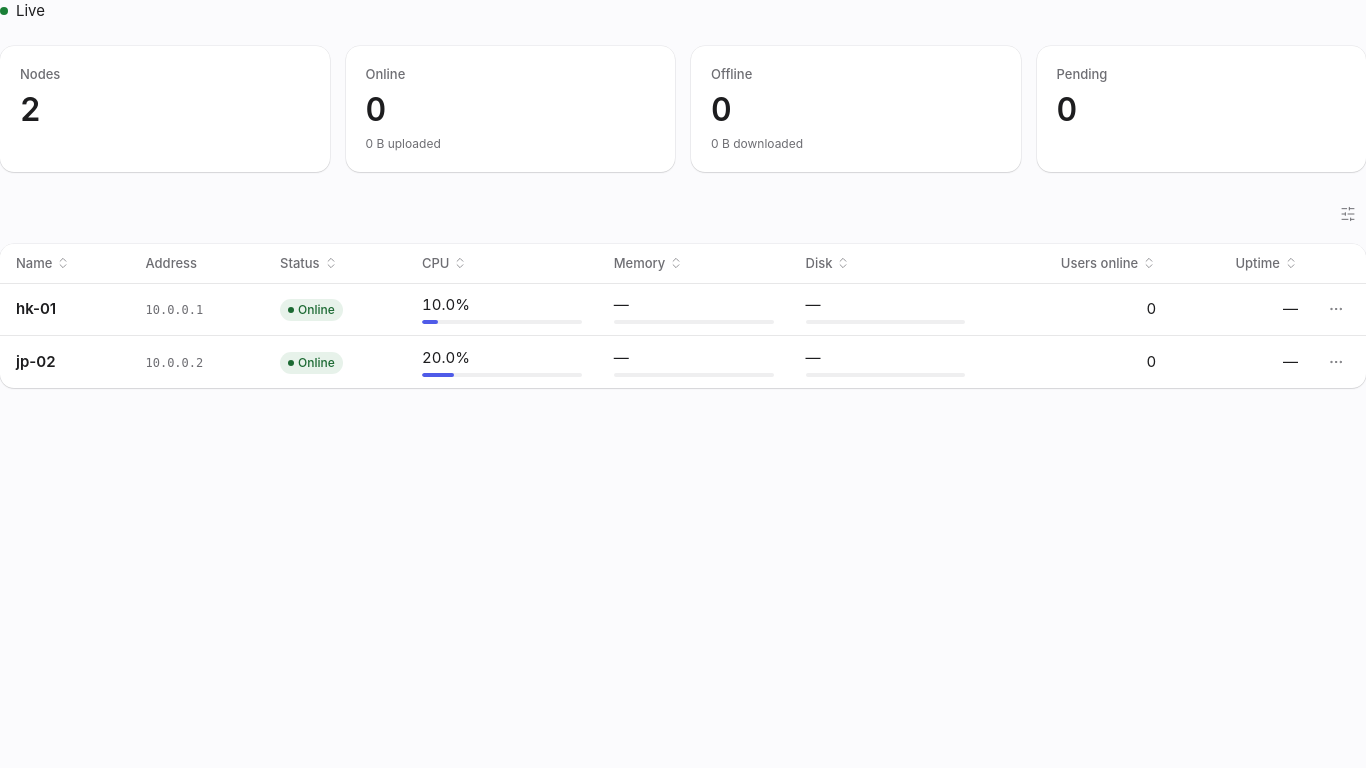
Test case: 实时节点 (WebSocket) › a node's traffic › is also in the row menu, next to opening the node page
Click the button named "Actions for jp-02" at (1336, 362), box 1322,348 -> 1350,376
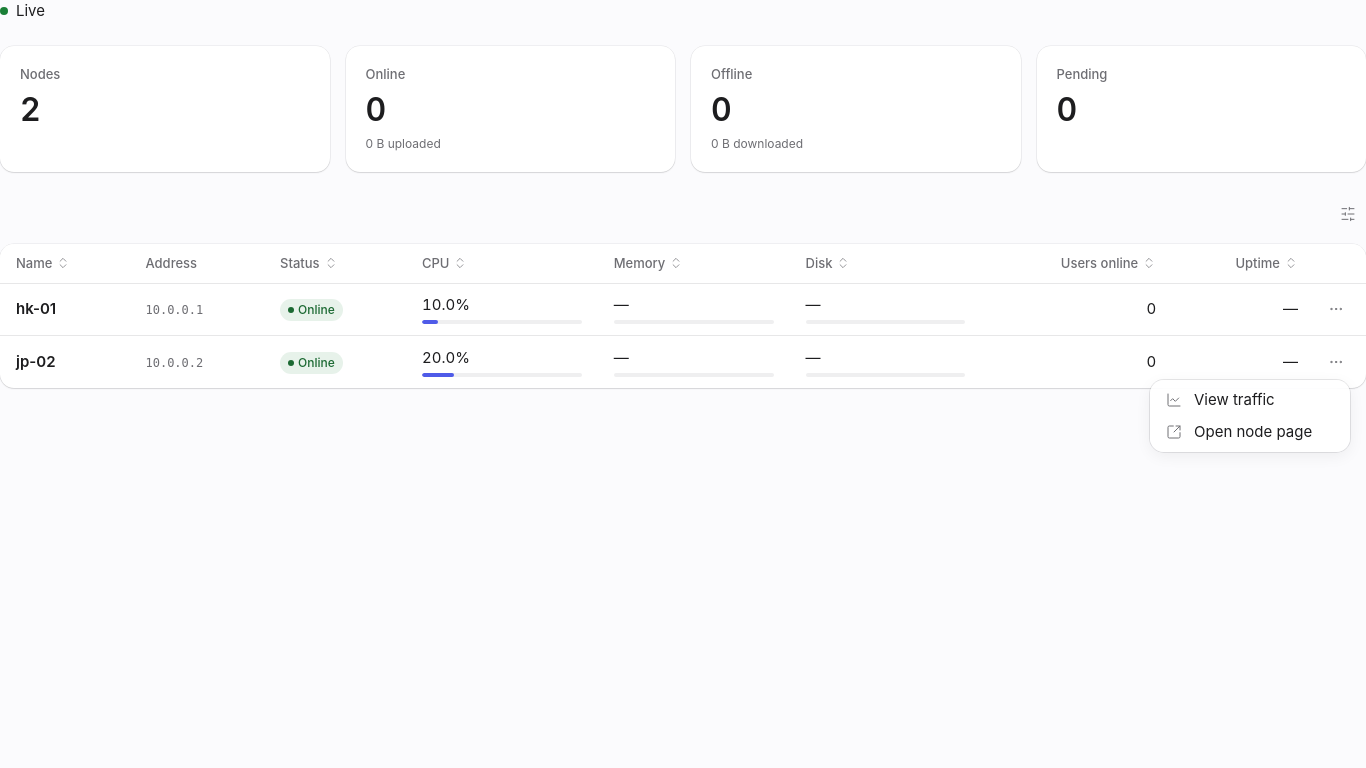
Click the menu item "View traffic" at (1220, 400), box 1166,390 -> 1275,409
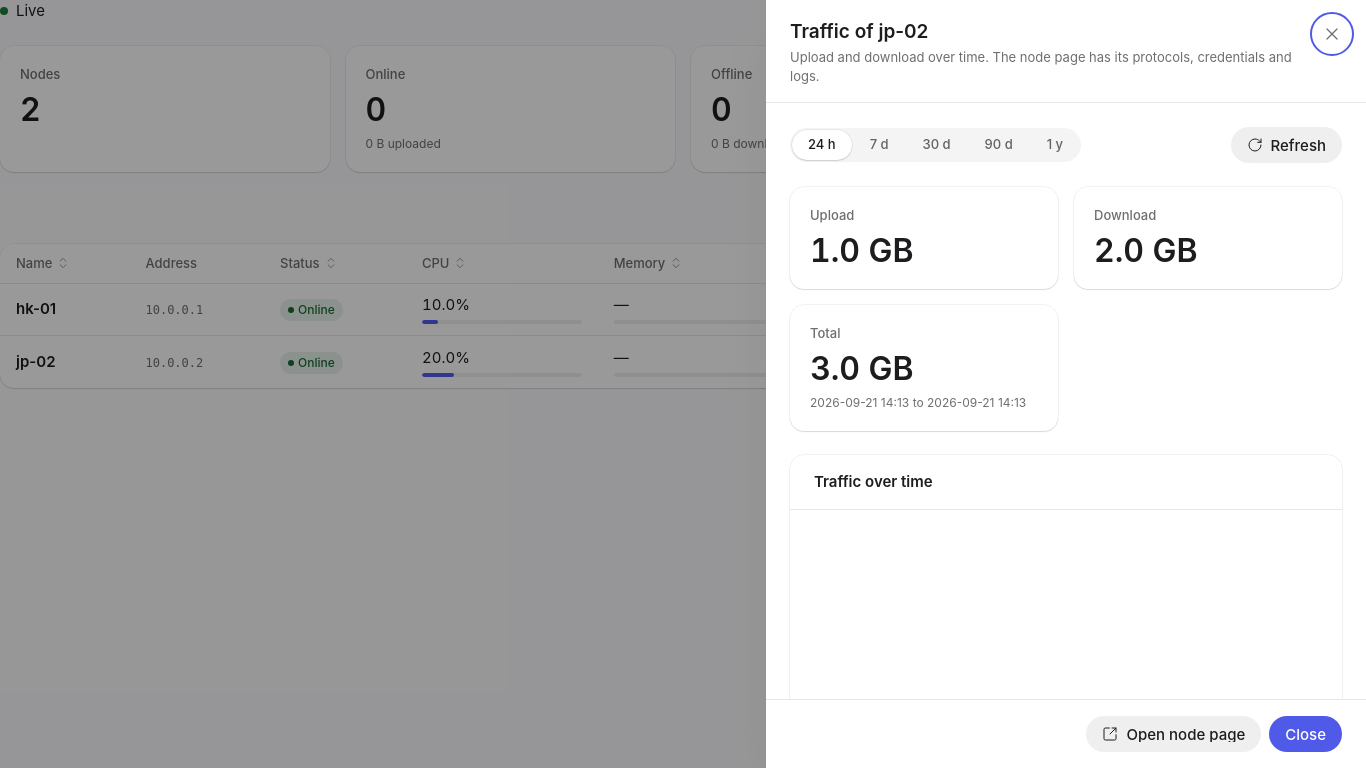
Check: the dialog with test id "monitor-node-traffic" is shown, box 766,0 -> 1365,767
Check: the dialog with test id "monitor-node-traffic" shows "Traffic of jp-02", box 790,20 -> 928,43
